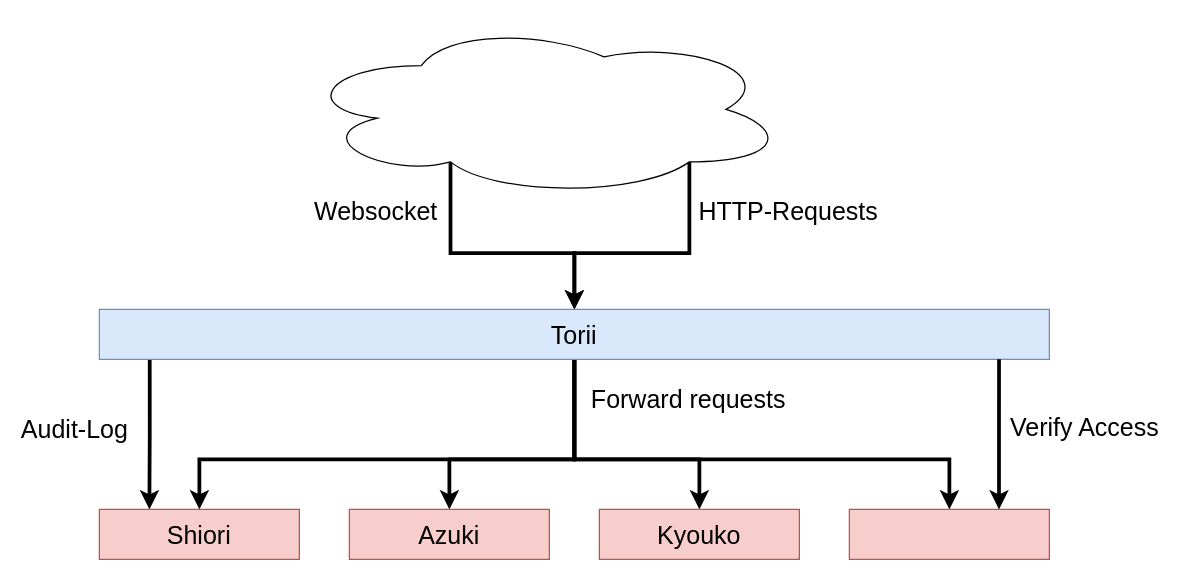
Some shapes in this 1180 by 581 pixel diagram are drawn without their labels. Here are the shapes that lost their labels. From the top down, the centre of each, then its label:
the point at 542,109: Internet
the point at 948,533: Misaki
